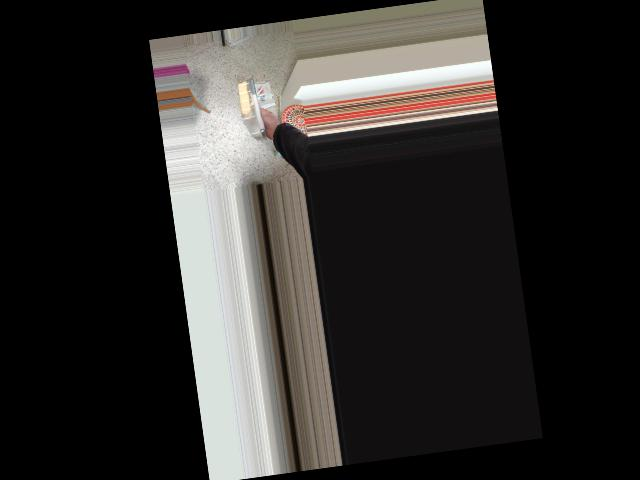cheese: (229, 74, 278, 140)
